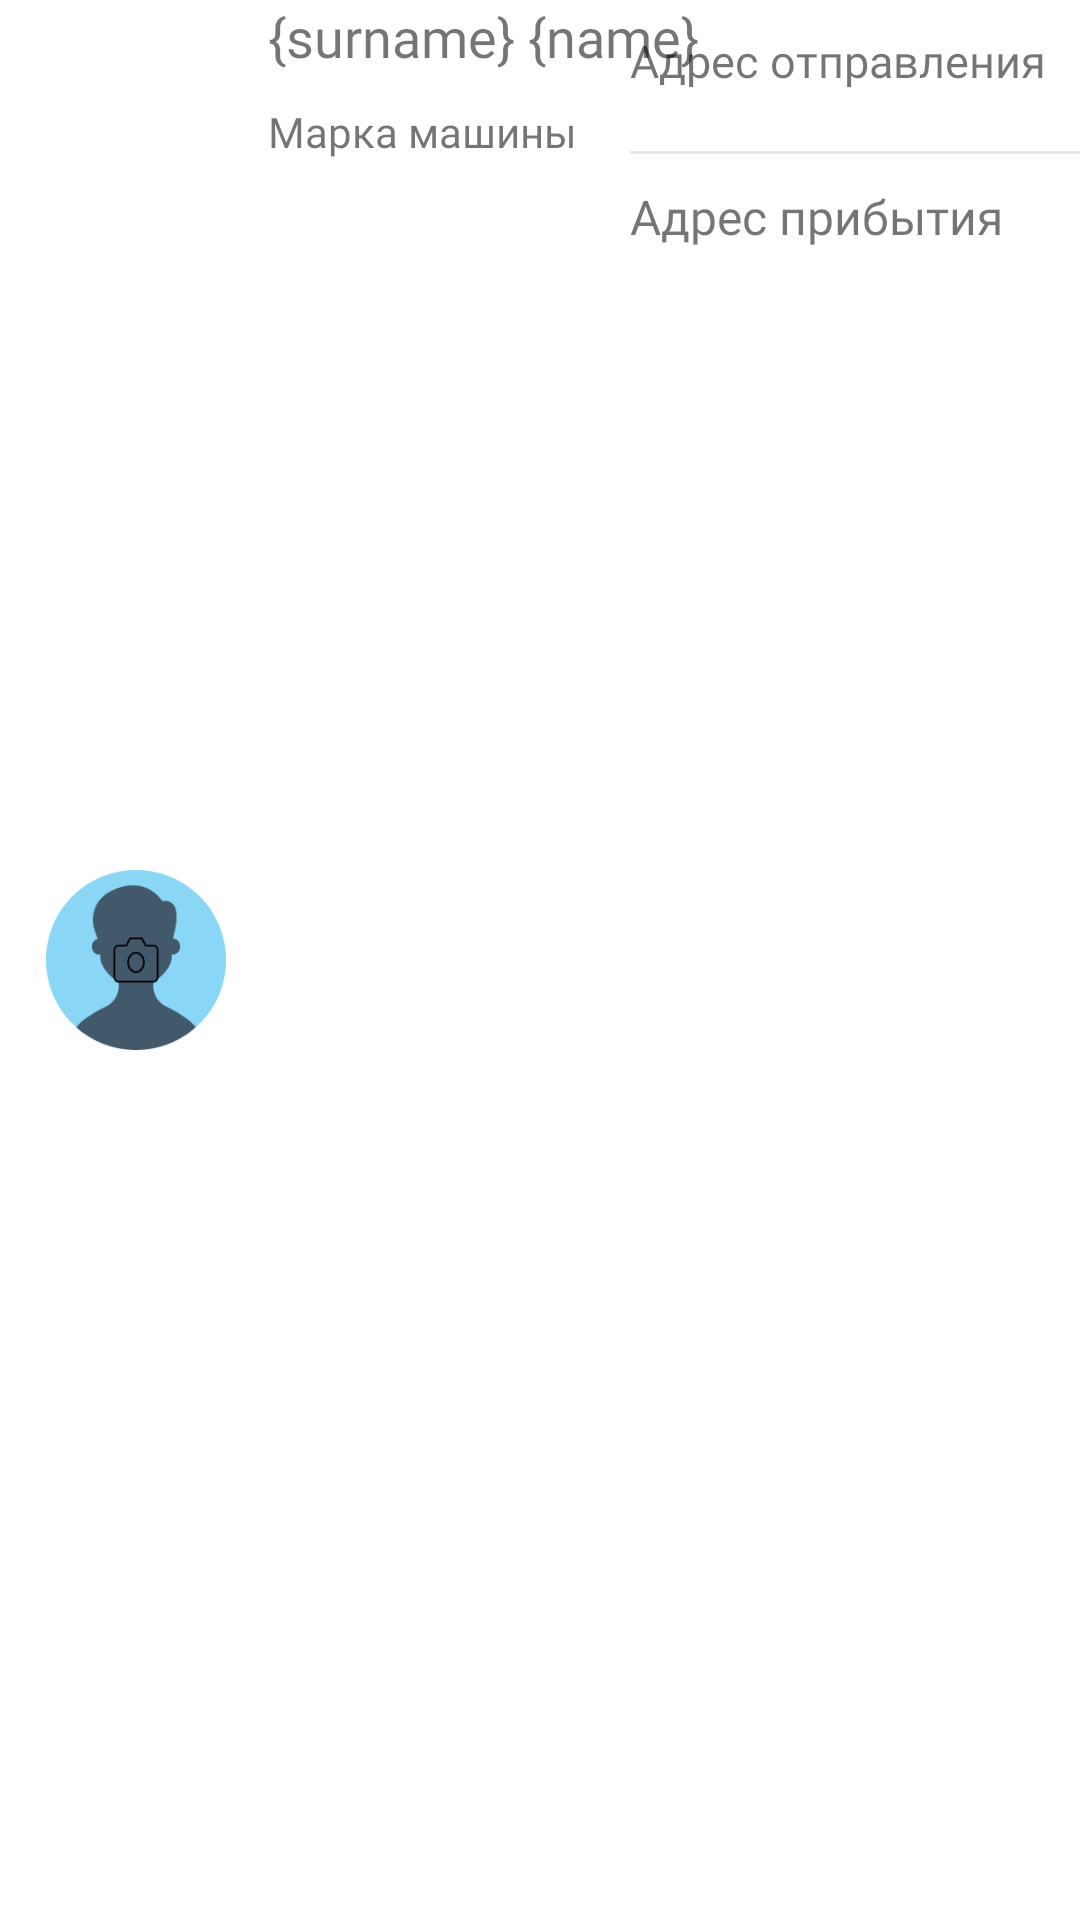

Named icons in this screenshot (1080w x 1920h) and their bounding boxes, (x1, y1, x2, y2):
profile man: (46, 870, 226, 1050)
